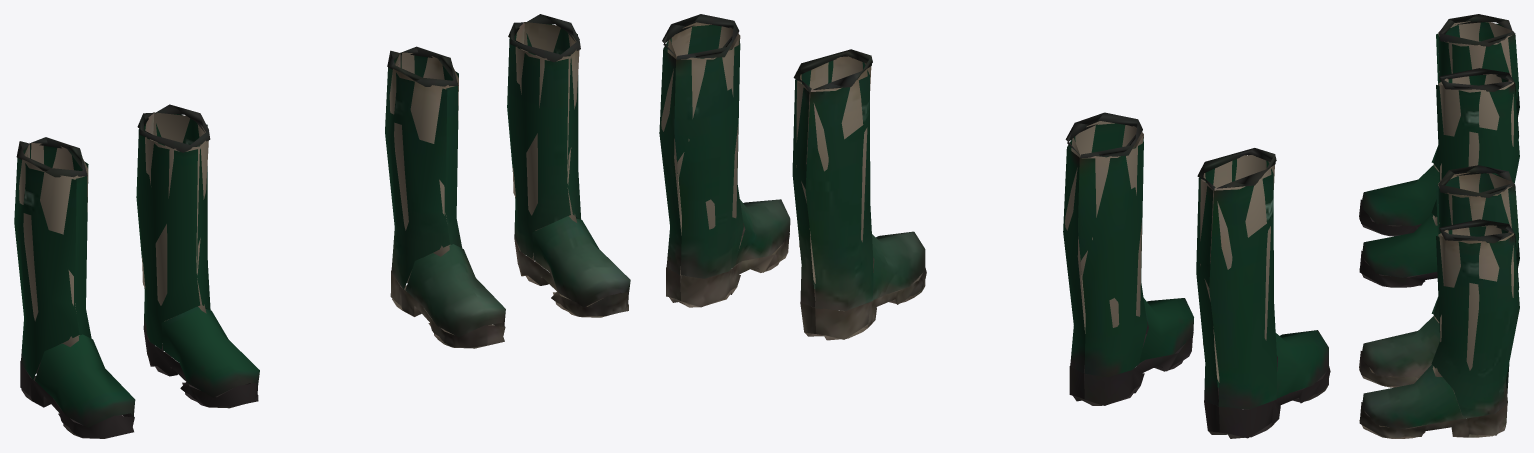
Rendered from rubber_boots.glb.
3 renders of one model, left to right at view 1: azimuth 30°, elevation 25°; view 2: azimuth 150°, elevation 25°; view 3: azimuth 270°, elevation 25°, orthographic. The views are drawn at different scales.
Parts seen in each view (by area): view 1: rubber_boots_r, rubber_boots_dirt_r, rubber_boots_dirty_l, rubber_boots_l; view 2: rubber_boots_l, rubber_boots_dirty_l, rubber_boots_dirt_r, rubber_boots_r; view 3: rubber_boots_dirty_l, rubber_boots_l, rubber_boots_dirt_r, rubber_boots_r.
Part boxes in pixels (x1,y1,x2,y2): rubber_boots_r: [14, 137, 135, 438]; rubber_boots_dirt_r: [385, 46, 505, 348]; rubber_boots_dirty_l: [507, 14, 630, 317]; rubber_boots_l: [136, 104, 259, 408]; rubber_boots_l: [1063, 112, 1193, 405]; rubber_boots_dirty_l: [659, 14, 790, 307]; rubber_boots_dirt_r: [792, 49, 926, 340]; rubber_boots_r: [1196, 148, 1330, 438]; rubber_boots_dirty_l: [1359, 219, 1519, 438]; rubber_boots_l: [1359, 68, 1519, 287]; rubber_boots_dirt_r: [1359, 165, 1519, 387]; rubber_boots_r: [1359, 14, 1519, 236].
Size of the model in its own units: 0.8933 by 0.3736 by 0.2699.
Materials: 2 (2 with a texture image).
